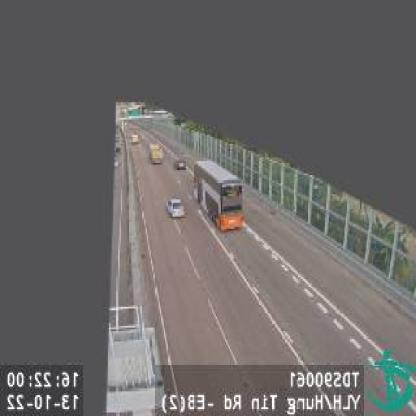Bus: (193, 157, 244, 232)
Car: (165, 196, 183, 216), (176, 160, 186, 170)
Truck: (146, 142, 162, 165)
